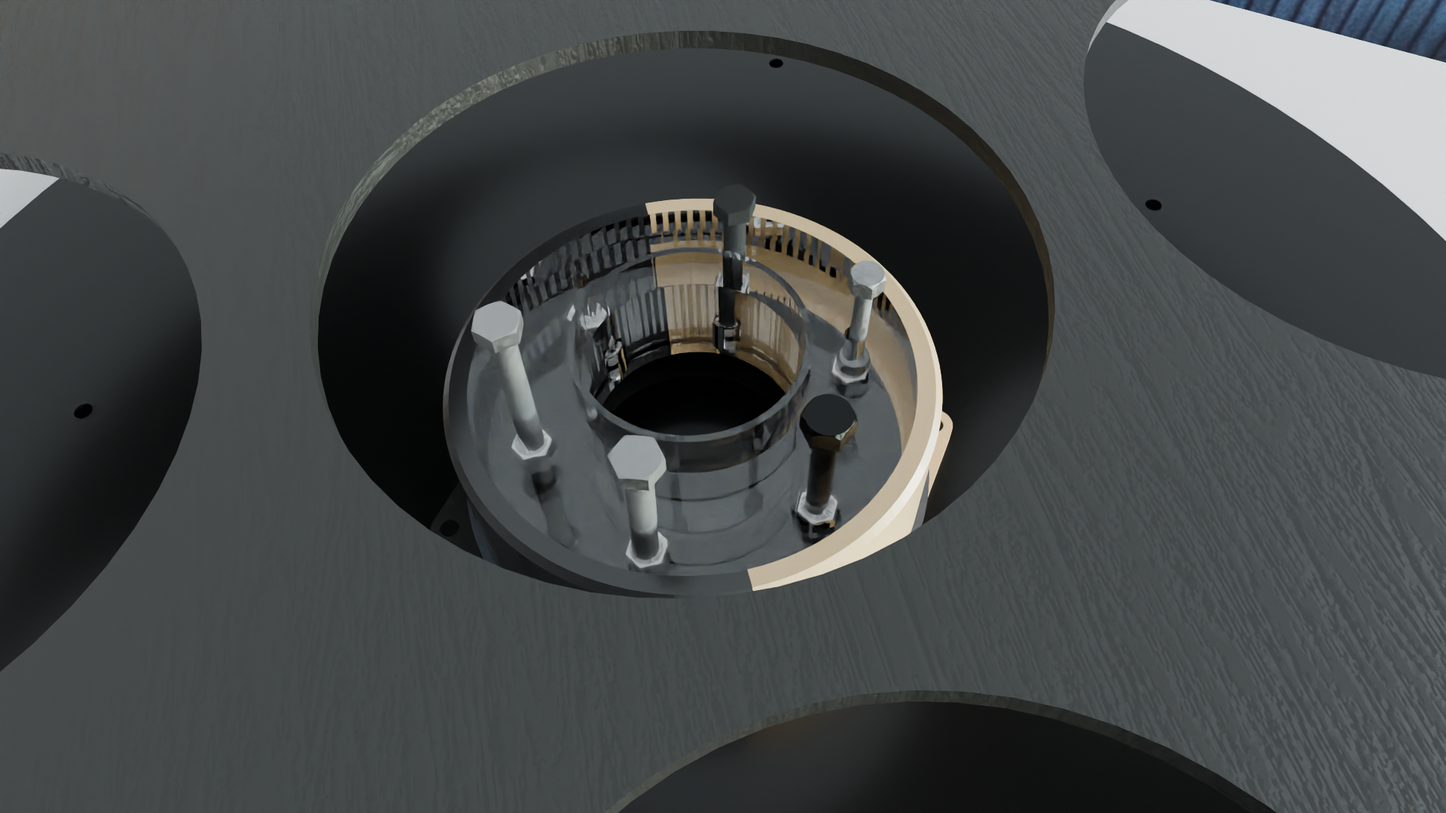bolt: (607, 435, 666, 481), (801, 394, 858, 440), (471, 300, 520, 342), (713, 184, 755, 215), (849, 260, 886, 291)
